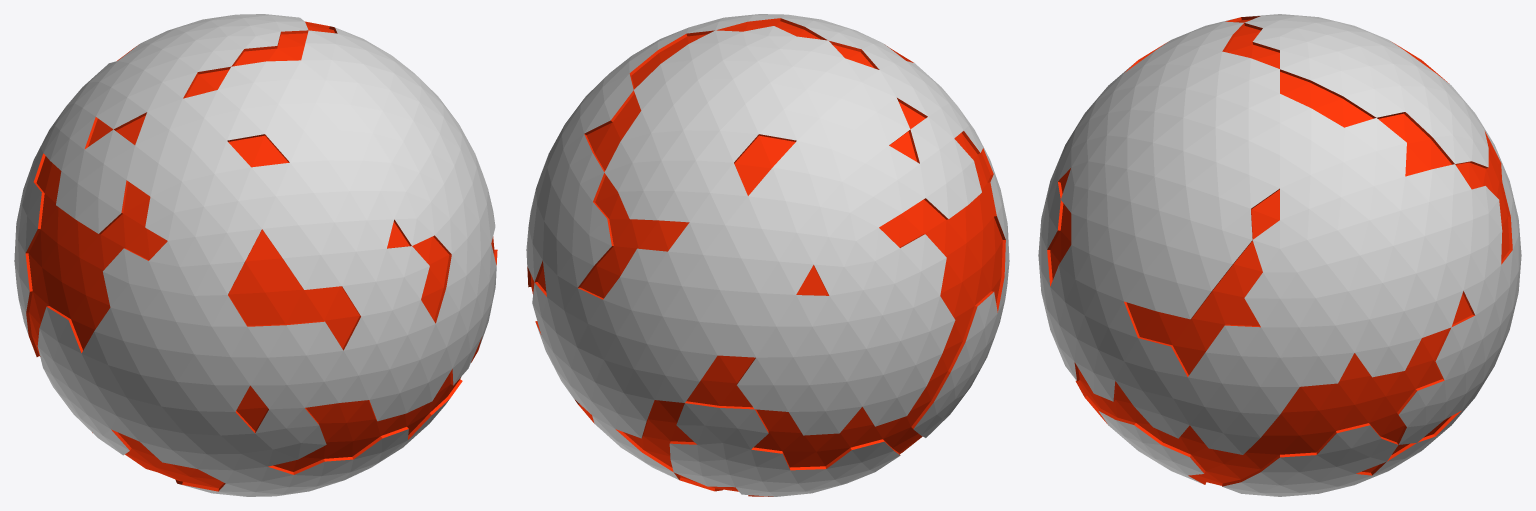
The model's file is Planet10.glb.
The picture shows the model from 3 angles, left to right: view 1: azimuth 30°, elevation 25°; view 2: azimuth 150°, elevation 25°; view 3: azimuth 270°, elevation 25°; orthographic projection.
Visible parts, largest first — view 1: Planet10; view 2: Planet10; view 3: Planet10.
Boxes of the visible parts, x1,y1,x2,y2 form: Planet10: [14, 14, 497, 496]; Planet10: [526, 14, 1009, 496]; Planet10: [1038, 14, 1521, 496].
Bounding box in the file's own units: 10.13 × 10.13 × 10.13.
